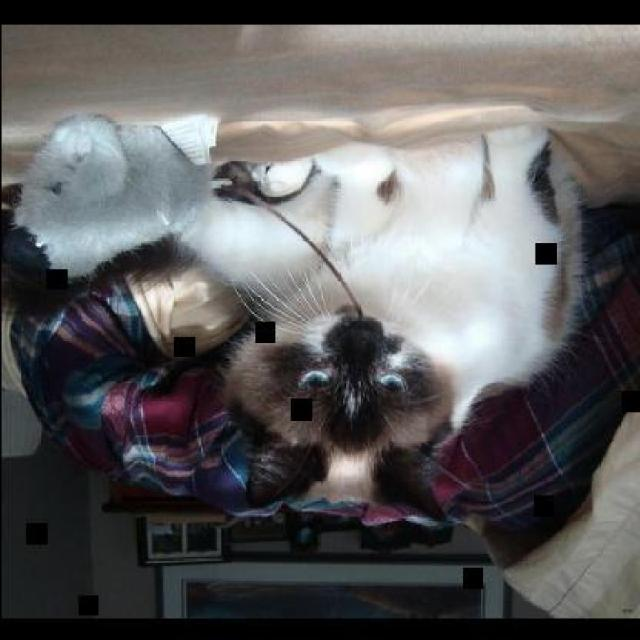unauthorized: (4, 112, 590, 512)
